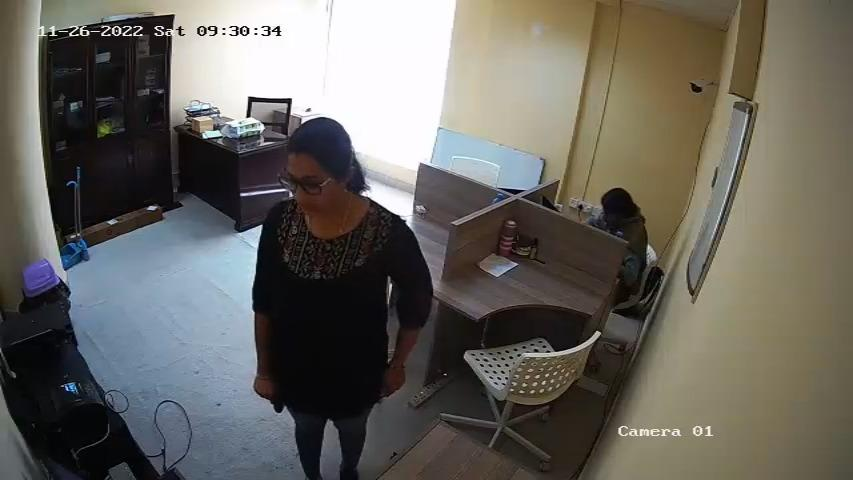no_apron: (279, 206, 383, 404)
